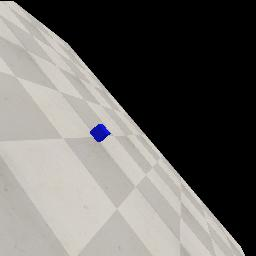box: (90, 124, 111, 142)
